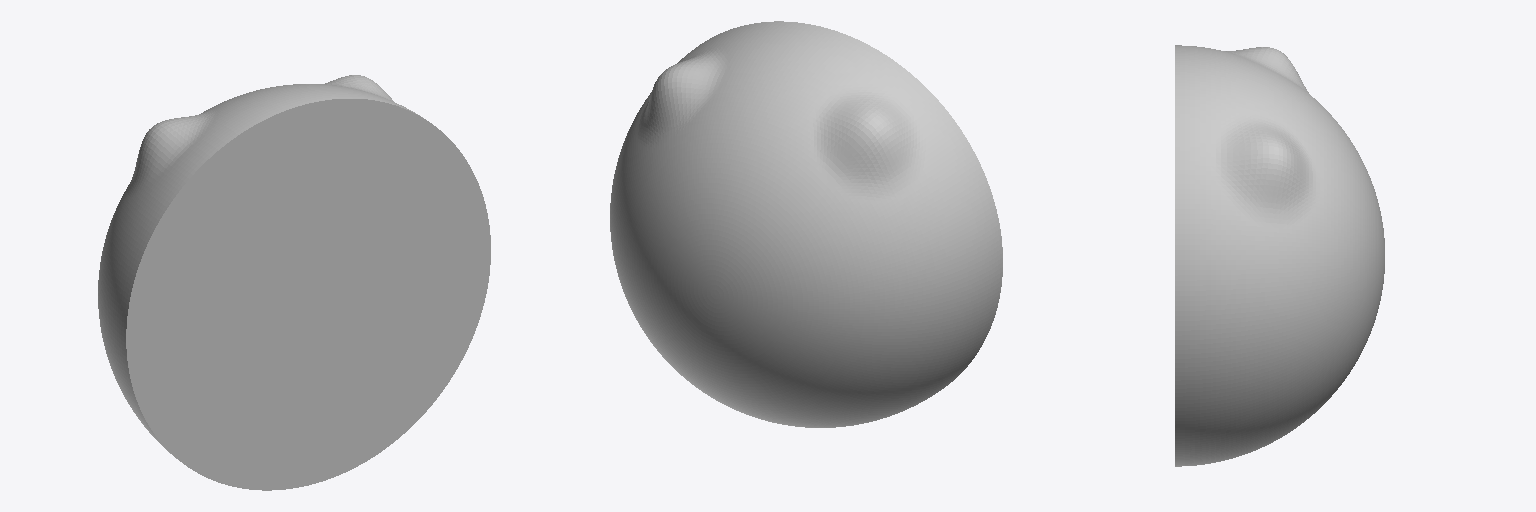
Rendered from PacmanUpper.obj.
3 renders of one model, left to right at view 1: azimuth 30°, elevation 25°; view 2: azimuth 150°, elevation 25°; view 3: azimuth 270°, elevation 25°, orthographic.
Parts seen in each view (by area): view 1: Sphere.002; view 2: Sphere.002; view 3: Sphere.002.
Part boxes in pixels (x1,y1,x2,y2): Sphere.002: (98, 75, 490, 490); Sphere.002: (610, 21, 1002, 427); Sphere.002: (1175, 45, 1384, 466).
Size of the model in its own units: 1 by 1 by 0.5.